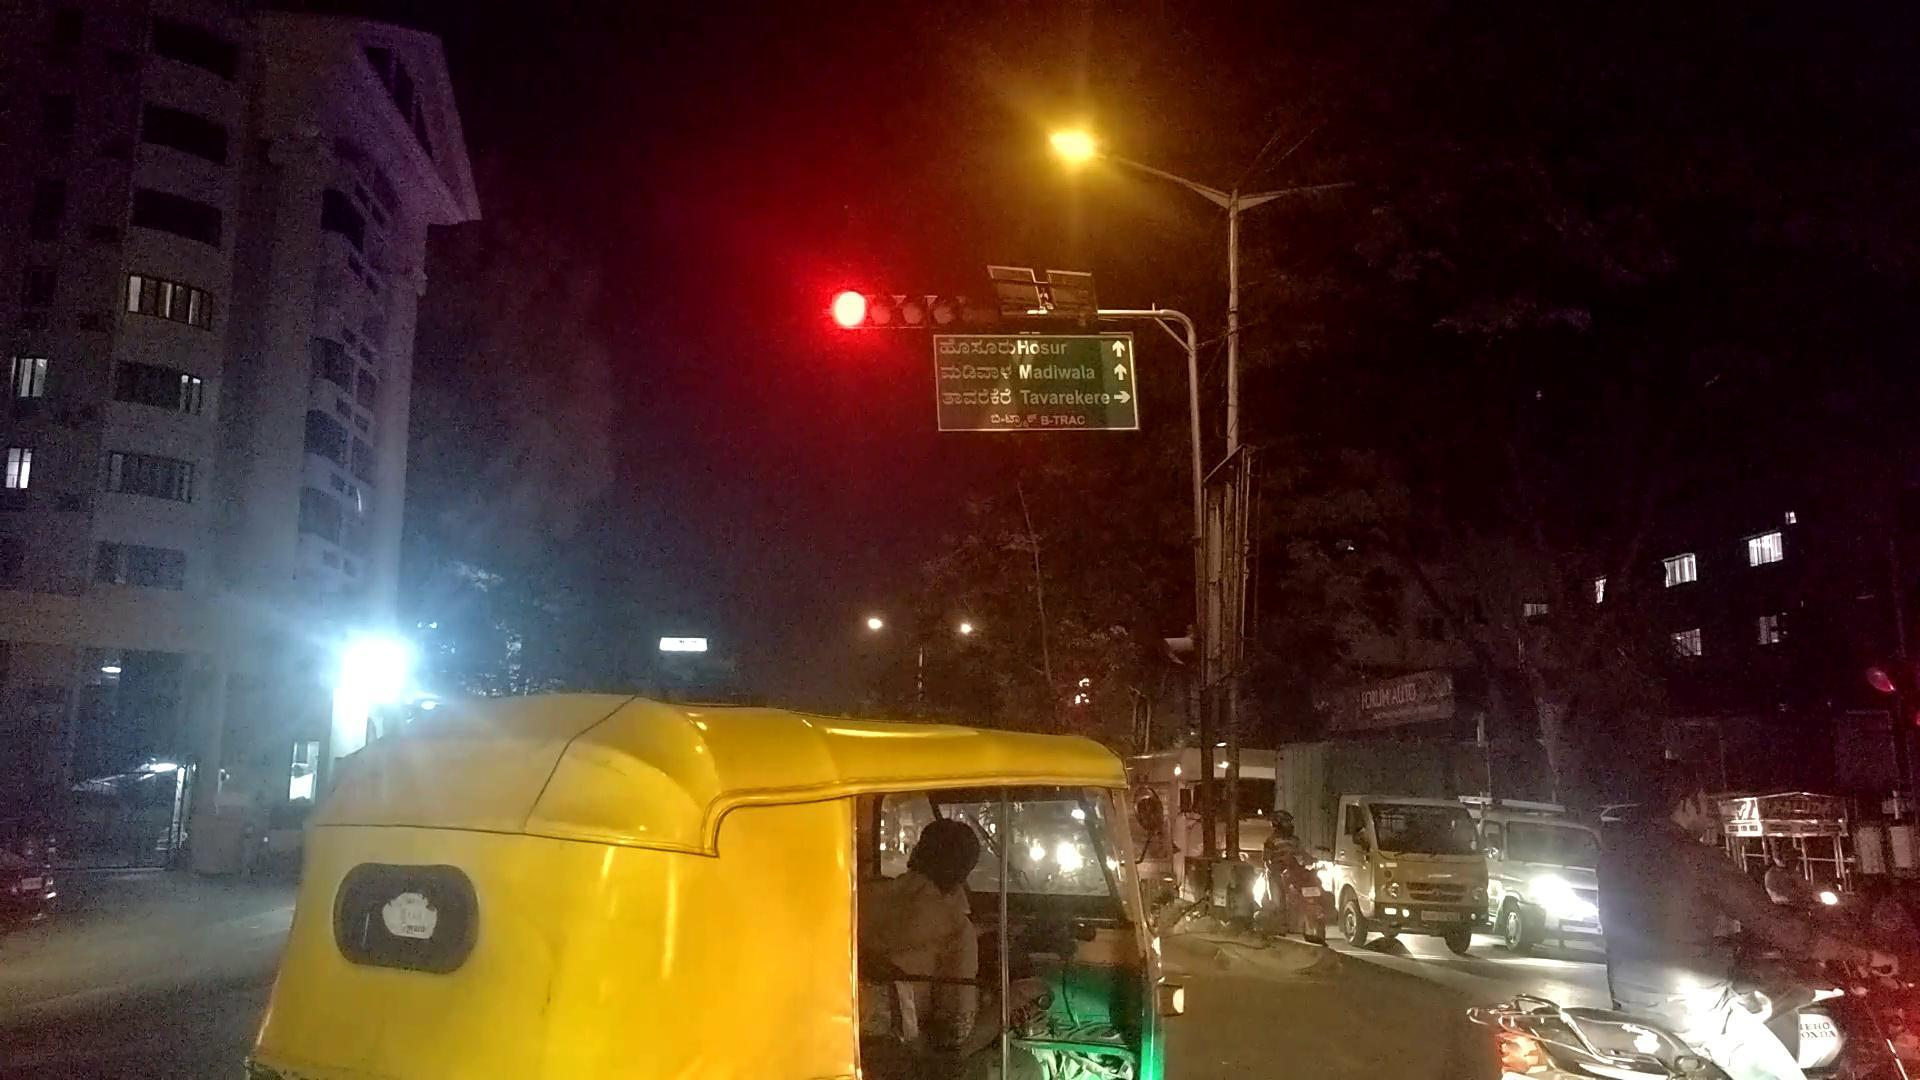on: (860, 0, 1431, 427)
